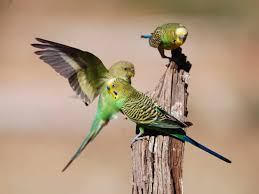budgie: (29, 35, 137, 165), (105, 77, 228, 159), (138, 22, 193, 62)
